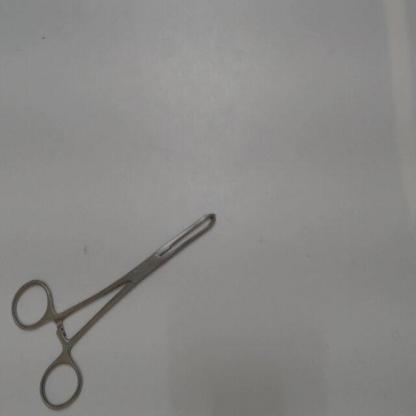Allis Tissue Forceps: (5, 204, 228, 413)
